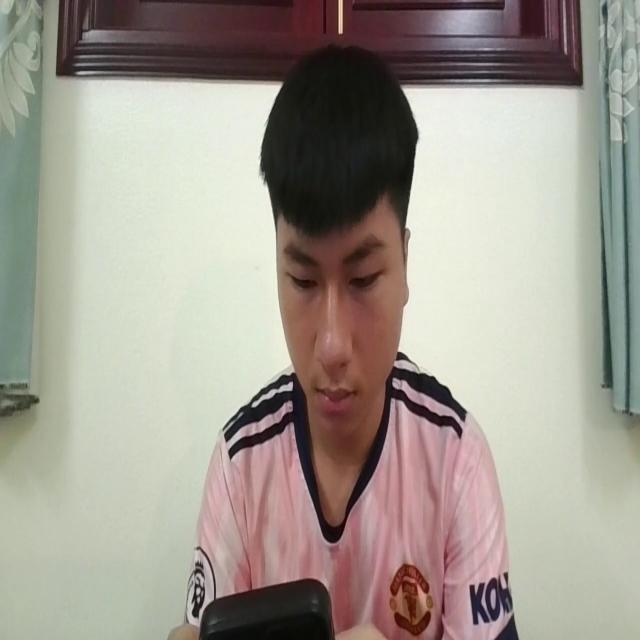phone: (200, 573, 335, 640)
student: (174, 42, 515, 640)
